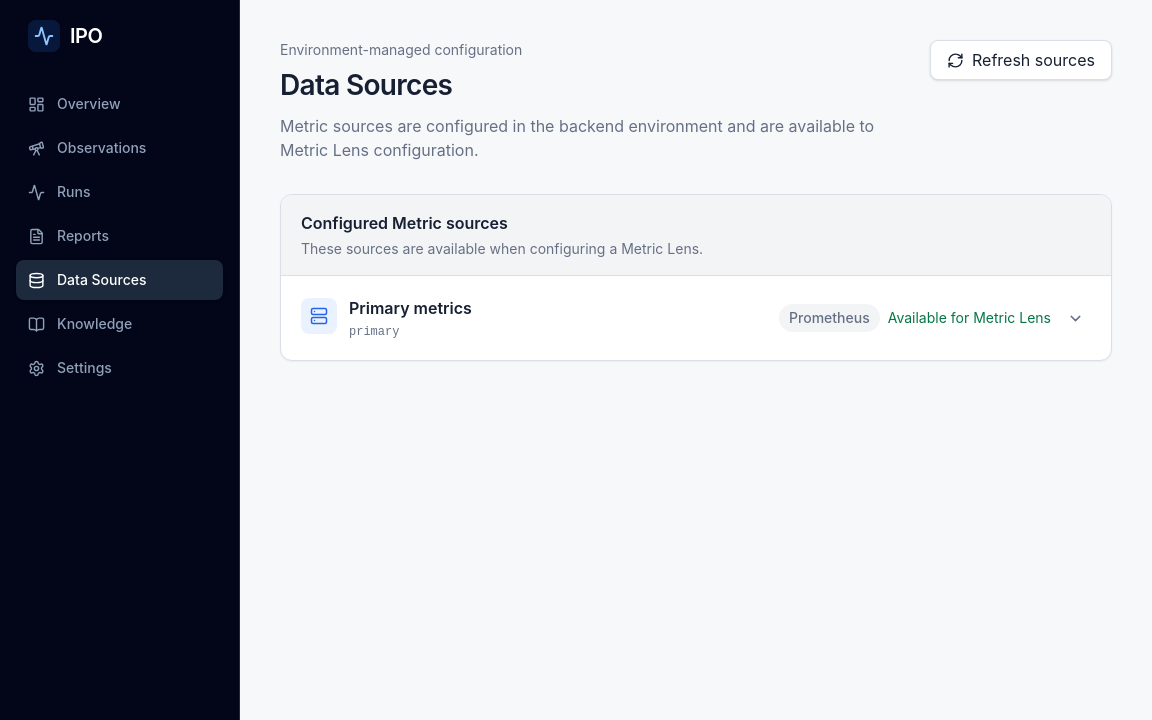
DataSourcesPage › refreshes the existing capabilities endpoint without mutating a source
The image size is (1152, 720).
Check: the heading "Primary metrics" is shown, box top-left (349, 296), bottom-right (472, 320)
Click the button "Refresh sources": point(1021, 60) top-left (930, 40), bottom-right (1112, 80)
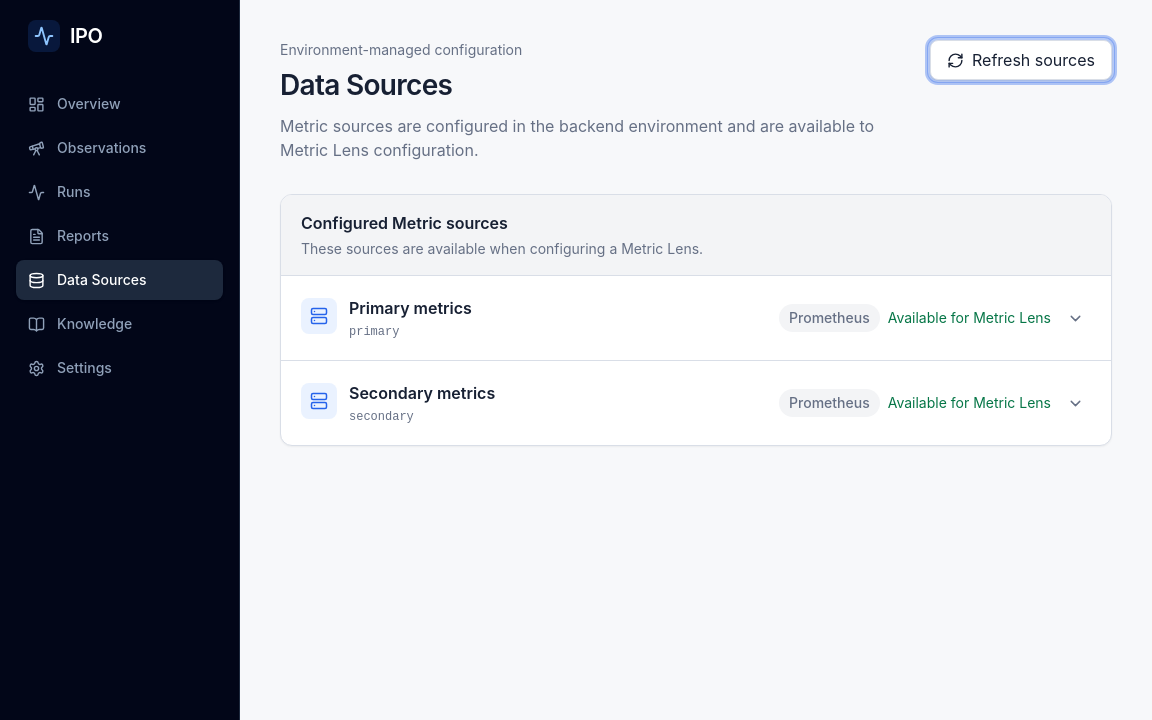
Check: the heading "Secondary metrics" is shown, box top-left (349, 381), bottom-right (495, 405)
